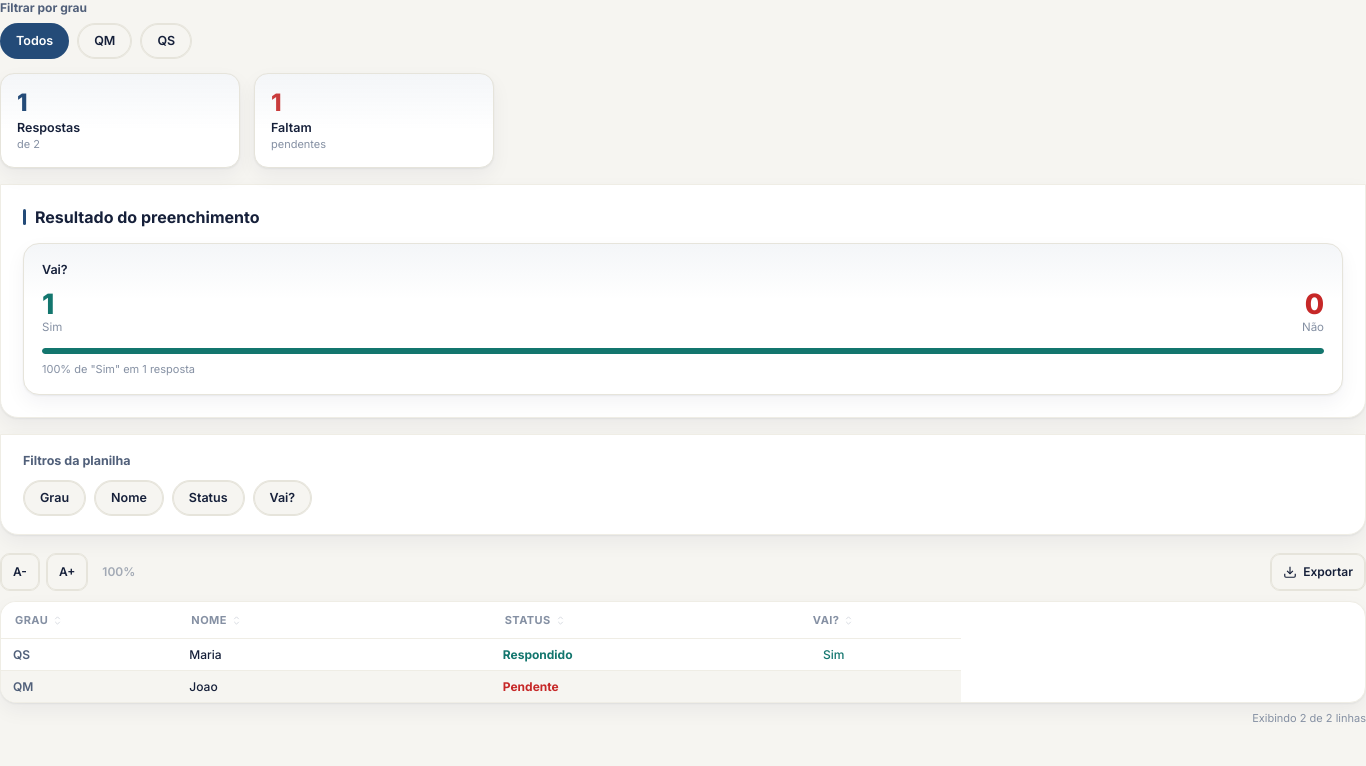
ResultsScreen › usa valores distintos para filtrar campo de opcoes
Click the button "Vai?": (282, 498) [252, 480, 312, 516]
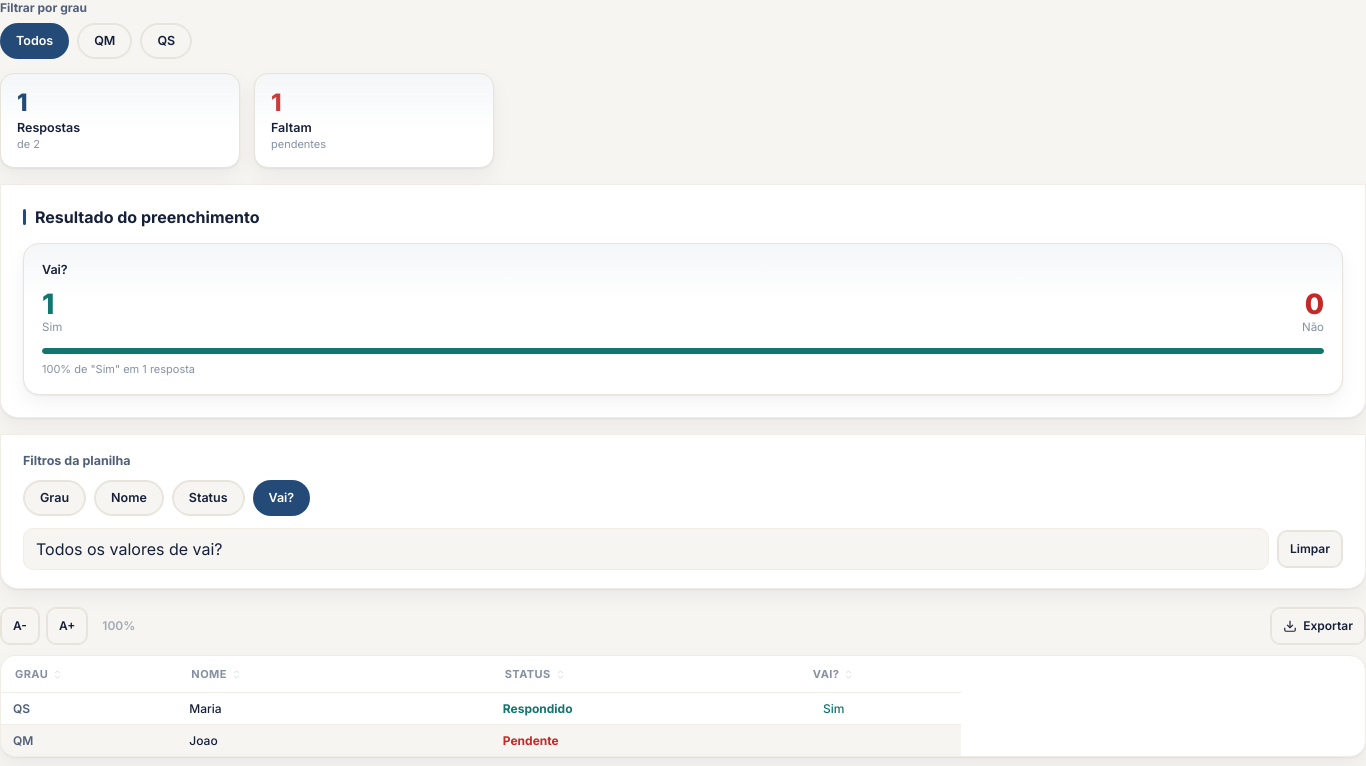
Select "Sim" in the dropdown: (646, 549) [23, 528, 1269, 570]
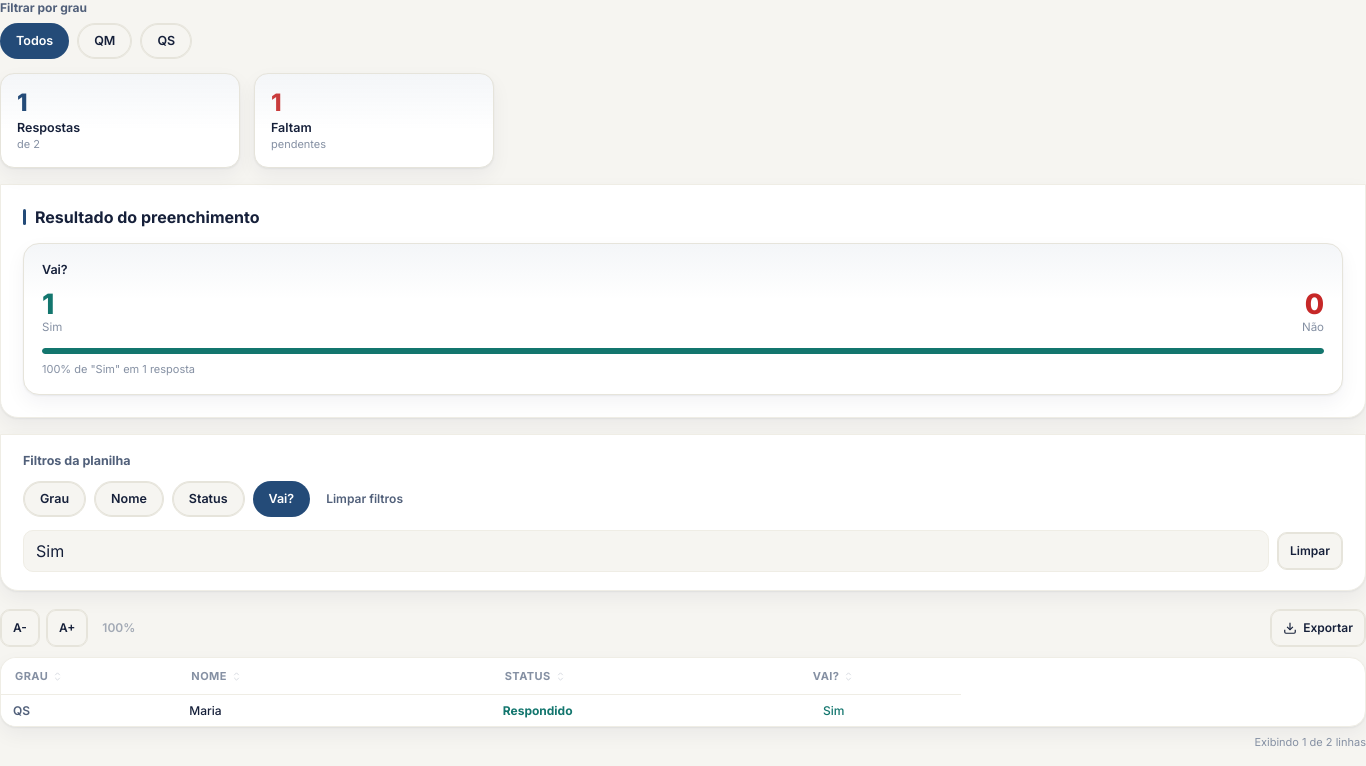
Expected: the text "Maria" is shown, [177, 694, 491, 726]
Result: the text "Joao" is gone
